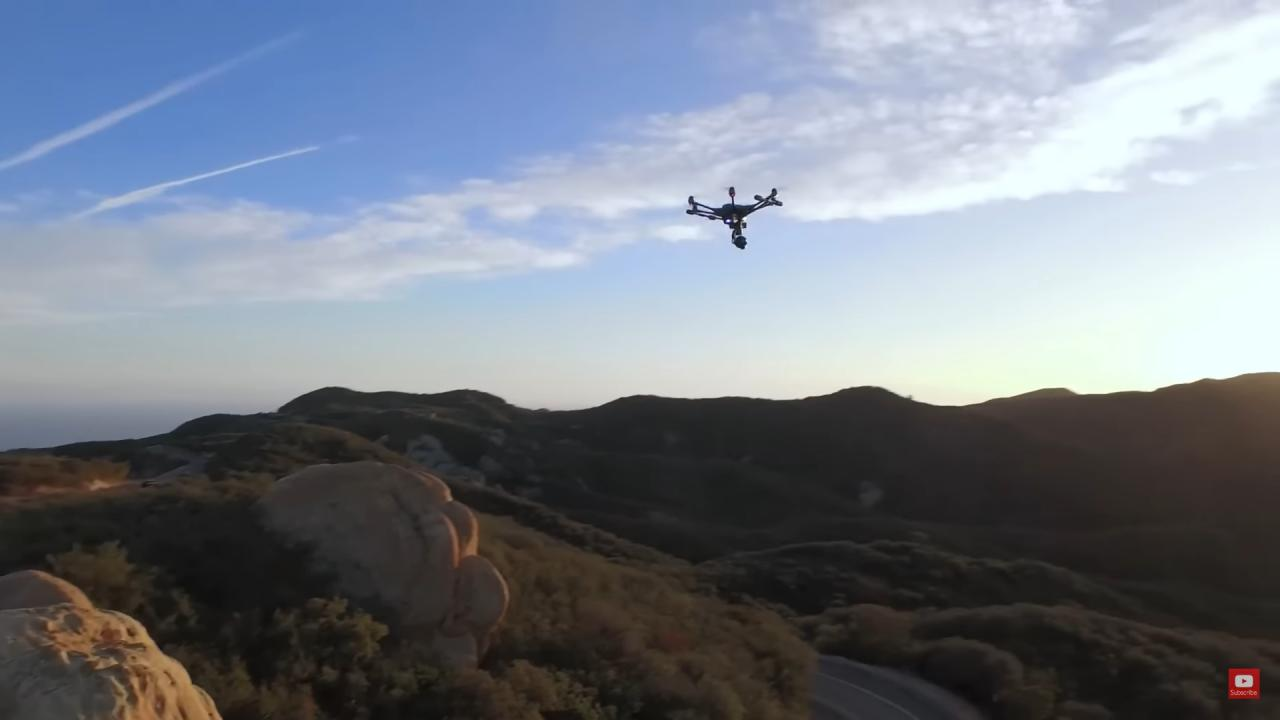Drone: (675, 178, 794, 260)
